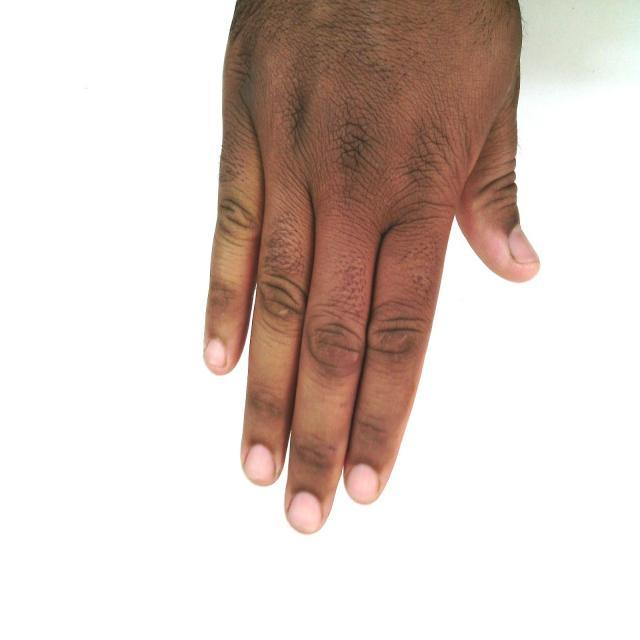Fingernail: (287, 493, 322, 533), (347, 464, 380, 503), (244, 444, 275, 483), (510, 226, 540, 263), (204, 339, 227, 368)
